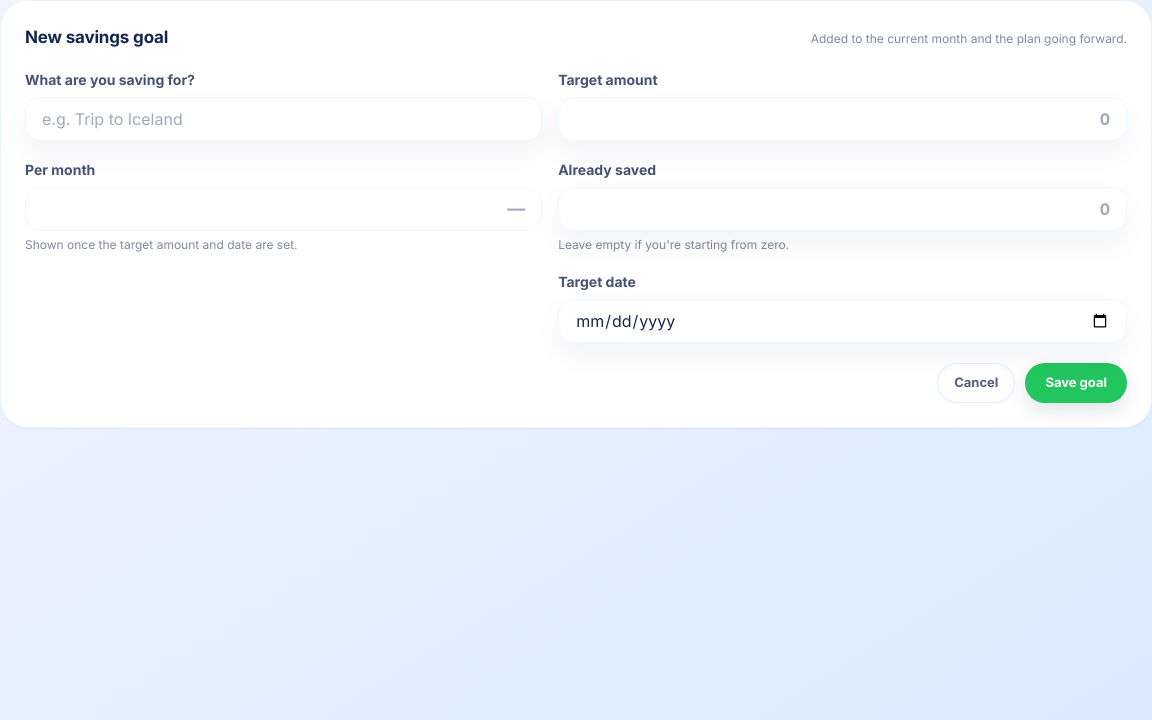
Test case: SavingsGoalDraftCard › shows schema-aligned errors when required fields are missing
The image size is (1152, 720).
Click the button with test id "savings-draft-submit" at [1076, 382], box [1025,362,1127,402]
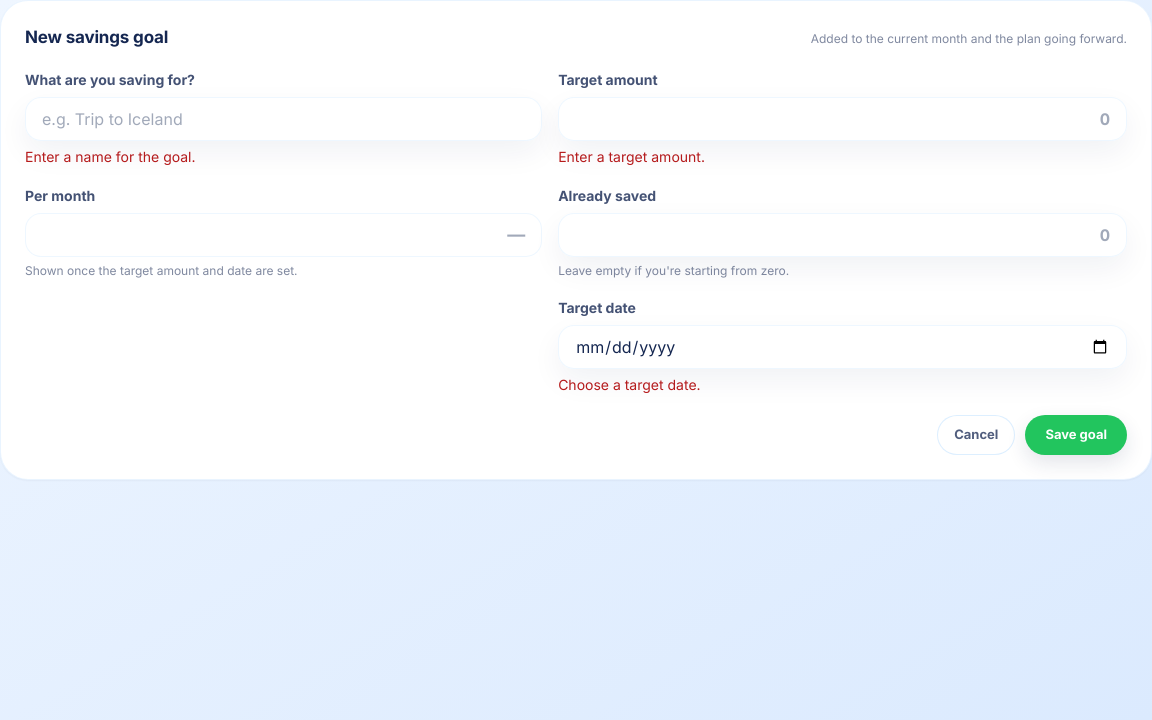
Expected: the text "Enter a name for the goal." is shown, [25,148,196,164]
Expected: the text "Enter a target amount." is shown, [558,148,705,164]
Expected: the text "Choose a target date." is shown, [558,376,701,392]
